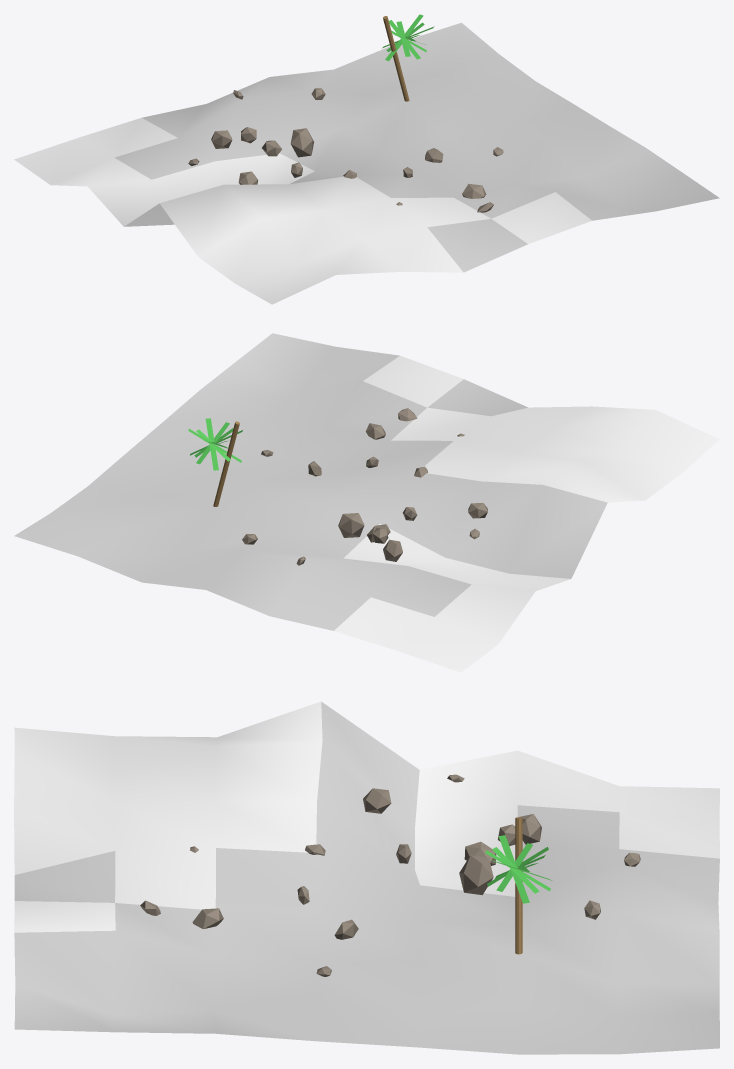
The model's file is observatory-enviornment.glb.
3 renders of one model, top to bottom at view 1: azimuth 30°, elevation 25°; view 2: azimuth 150°, elevation 25°; view 3: azimuth 270°, elevation 25°, orthographic. The views are drawn at different scales.
Visible parts, largest first — view 1: TropicalIsland, Rock_14, PalmTrunk_6.4_6.5; view 2: TropicalIsland; view 3: TropicalIsland, Rock_14, PalmTrunk_6.4_6.5, Rock_19.
Boxes of the visible parts, x1,y1,x2,y2 form: TropicalIsland: [14, 22, 719, 304]; Rock_14: [290, 128, 313, 157]; PalmTrunk_6.4_6.5: [383, 16, 409, 101]; TropicalIsland: [14, 333, 719, 672]; TropicalIsland: [14, 701, 719, 1054]; Rock_14: [459, 855, 493, 895]; PalmTrunk_6.4_6.5: [515, 817, 522, 954]; Rock_19: [363, 788, 391, 813].
Size of what is drawn, in the model's own units: 30.04 by 7.94 by 30.03.
